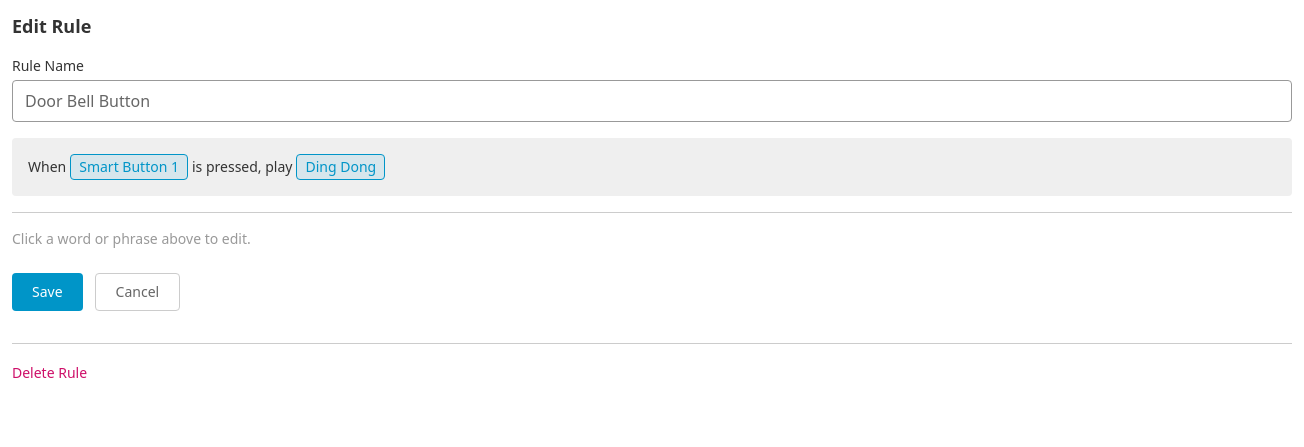
RulePanel (edit mode) › shows confirmation on delete click
Step 1. Click the button "Delete Rule" → (50, 373), box [12, 363, 87, 383]
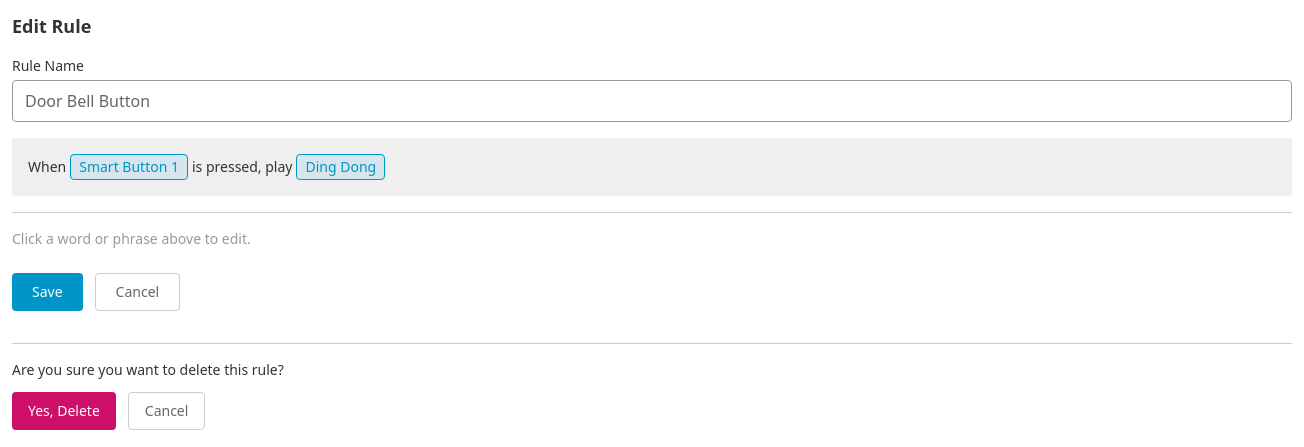
Now the text "Are you sure you want to delete this rule?" is shown, box [12, 360, 284, 379]
Now the button "Yes, Delete" is shown, box [12, 392, 116, 430]
